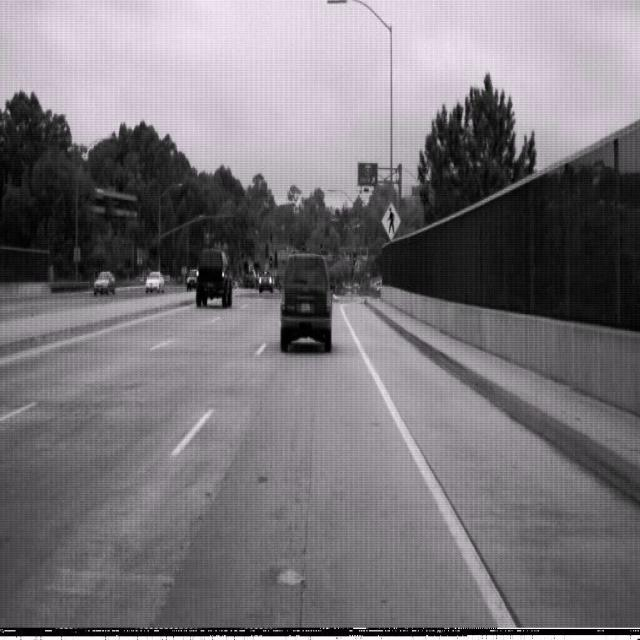pedestrianCrossing: (380, 198, 401, 242)
